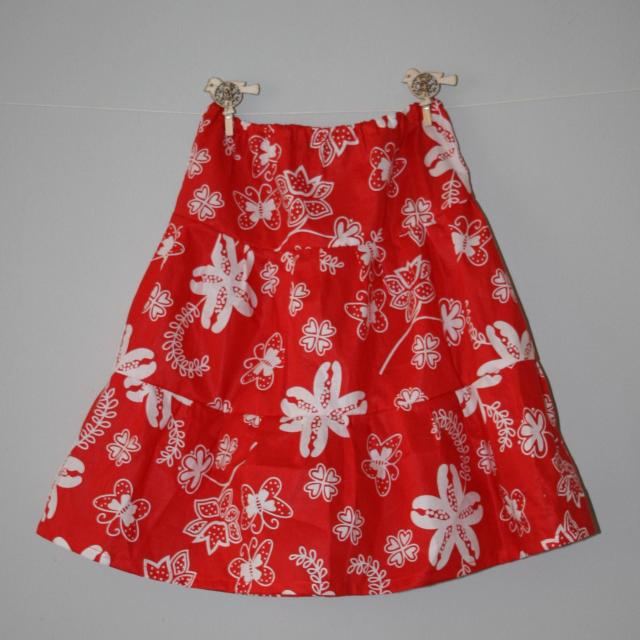Dress: (36, 76, 606, 604)
